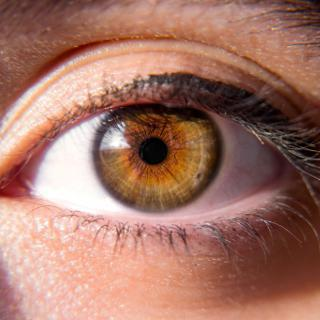pupil: (138, 136, 168, 166)
